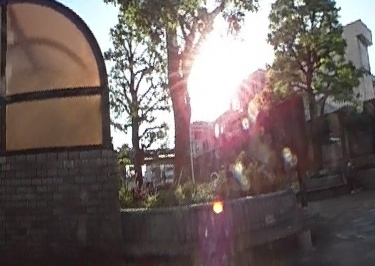person: (339, 158, 363, 191)
